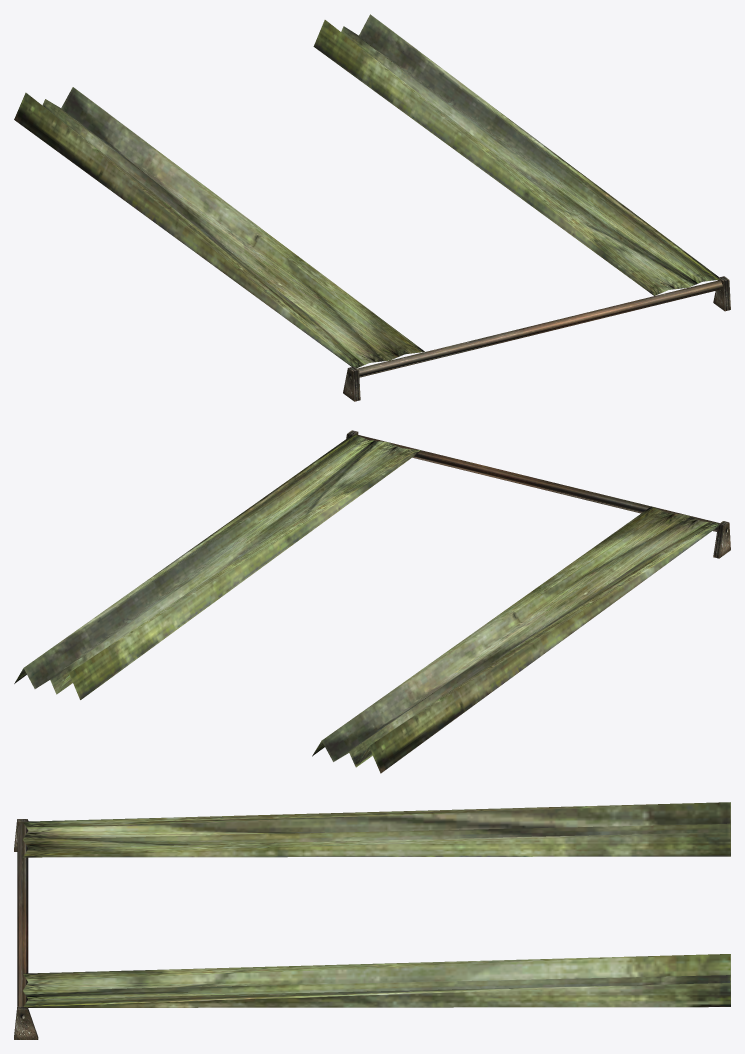
File: curtains_open.fbx
The picture shows the model from 3 angles, top to bottom: view 1: azimuth 30°, elevation 25°; view 2: azimuth 150°, elevation 25°; view 3: azimuth 270°, elevation 25°; orthographic projection. The views are drawn at different scales.
Visible parts, largest first — view 1: mesh_0; view 2: mesh_0; view 3: mesh_0.
Part boxes in pixels (left/top/right/bottom): mesh_0: left=14, top=14, right=730, bottom=401; mesh_0: left=14, top=430, right=730, bottom=773; mesh_0: left=14, top=802, right=730, bottom=1039.
Bounding box in the file's own units: 163 × 21.84 × 258.
Materials: 1 (1 with a texture image).
